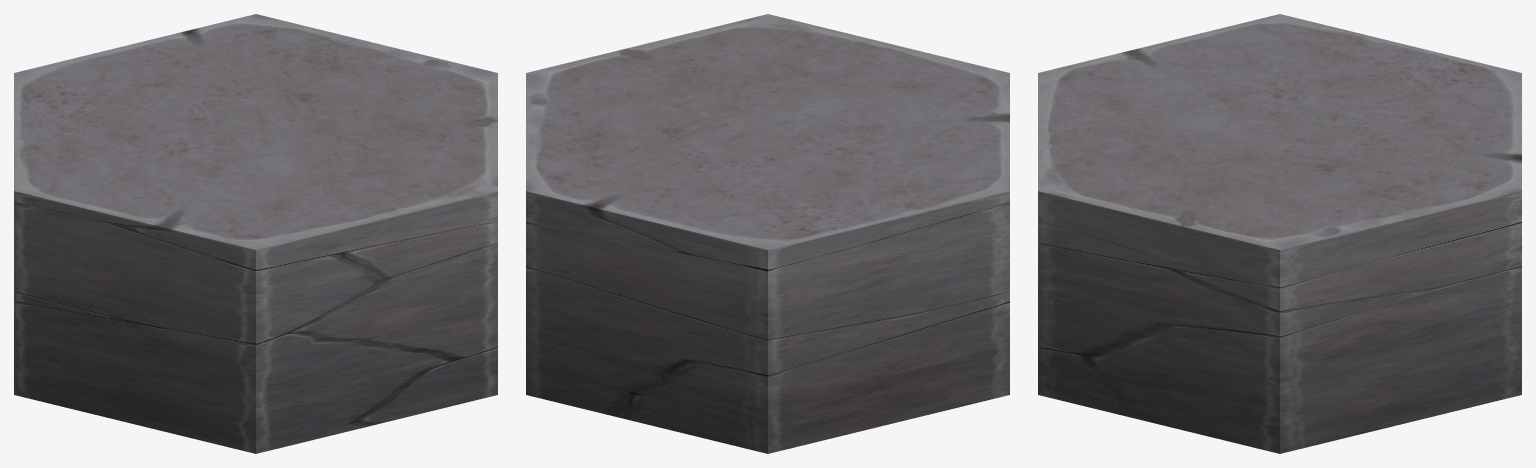
Rendered from Terrain6.FBX.
3 views of the same model, side by side, from view 1: azimuth 30°, elevation 25°; view 2: azimuth 150°, elevation 25°; view 3: azimuth 270°, elevation 25° (orthographic).
Parts seen in each view (by area): view 1: Cylinder038; view 2: Cylinder038; view 3: Cylinder038.
Part boxes in pixels (x1,y1,x2,y2): Cylinder038: (14, 14, 497, 453); Cylinder038: (526, 14, 1009, 453); Cylinder038: (1038, 14, 1521, 453).
Size of the model in its own units: 407 by 164 by 353.
Materials: 1 (1 with a texture image).
